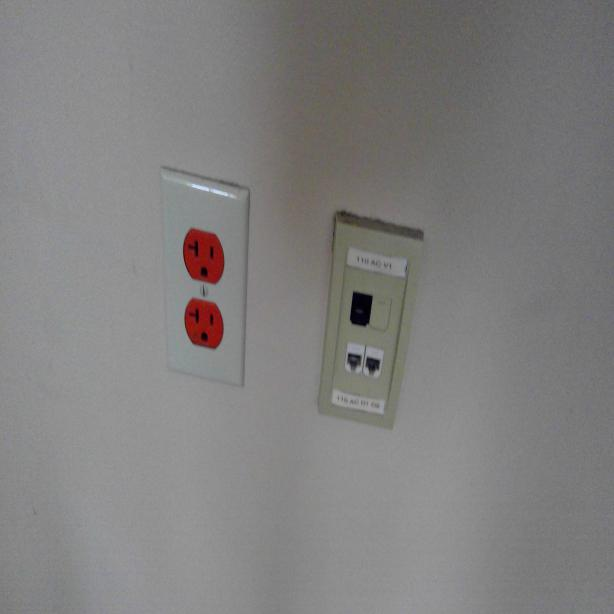typeb: (179, 228, 225, 282), (183, 302, 223, 350)
